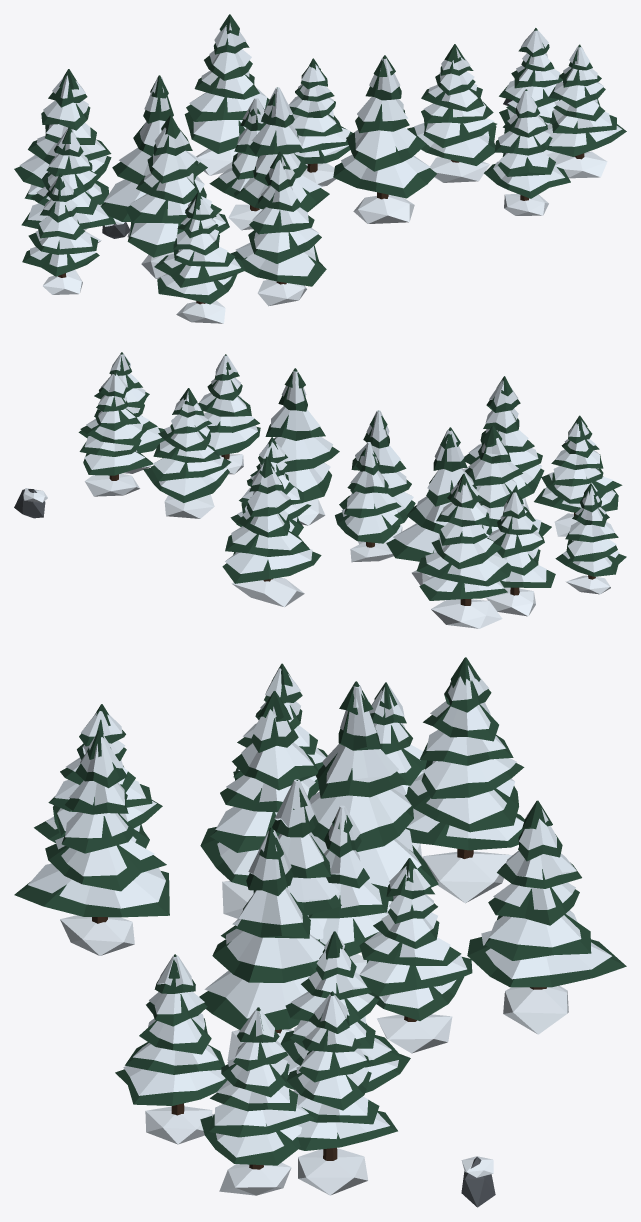
The model's file is Frontier_Grove_Near_B.fbx.
3 views of the same model, one above another, from view 1: azimuth 30°, elevation 25°; view 2: azimuth 150°, elevation 25°; view 3: azimuth 270°, elevation 25° (orthographic). The views are drawn at different scales.
Visible parts, largest first — view 1: Frontier_Grove_Near_B; view 2: Frontier_Grove_Near_B; view 3: Frontier_Grove_Near_B.
Part boxes in pixels (left/top/right/bottom): Frontier_Grove_Near_B: left=14, top=14, right=626, bottom=323; Frontier_Grove_Near_B: left=14, top=352, right=626, bottom=628; Frontier_Grove_Near_B: left=14, top=657, right=626, bottom=1207.
Bounding box in the file's own units: 3288 × 917 × 2085.
